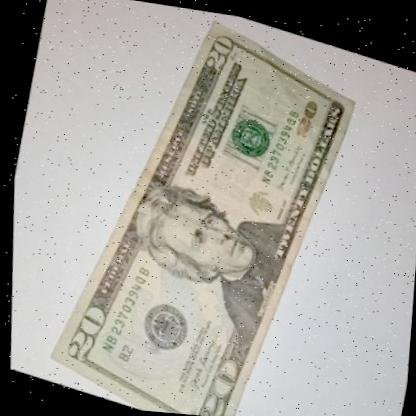twenty-front: (27, 0, 389, 416)
